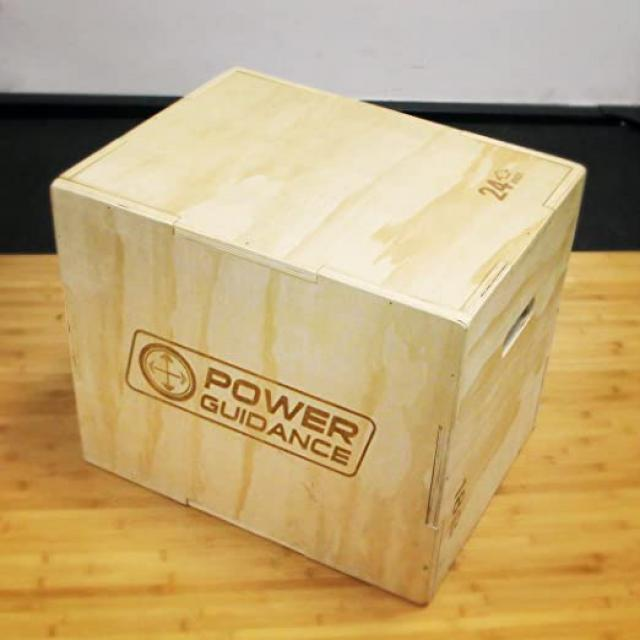Box: (43, 54, 598, 619)
